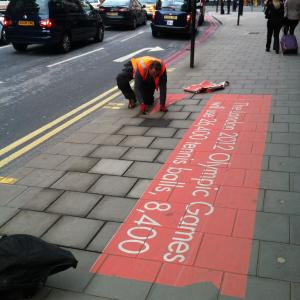Vehicle-registration-plate: (19, 21, 35, 25), (165, 16, 180, 20)
